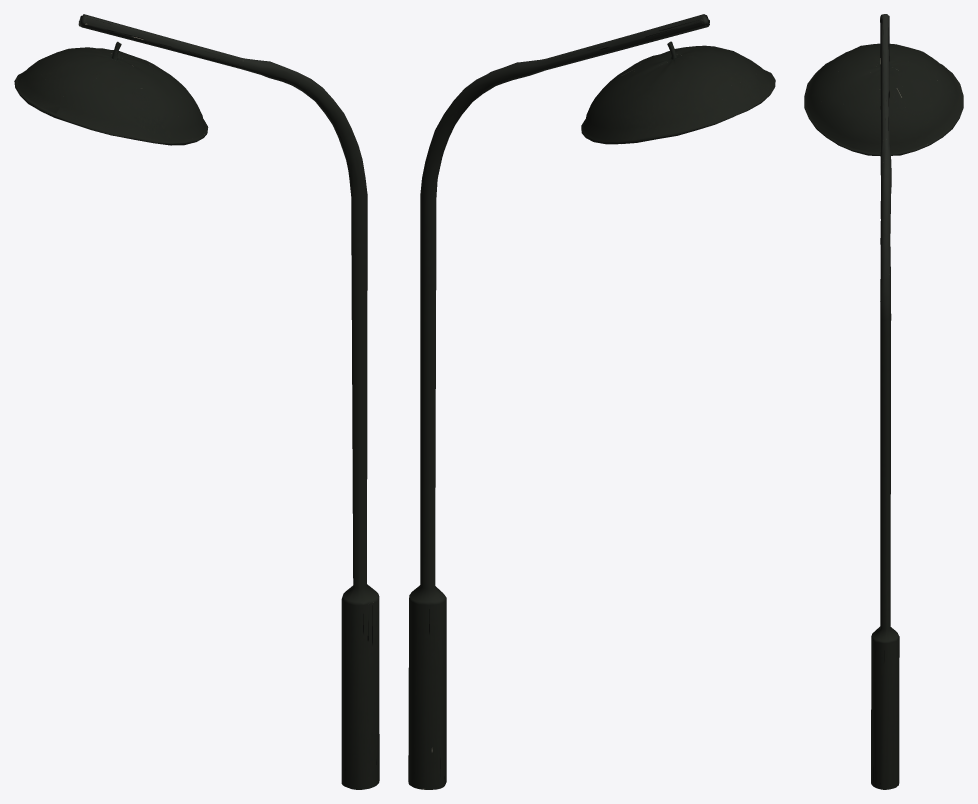
Rendered from street_lamp.glb.
3 views of the same model, side by side, from view 1: azimuth 30°, elevation 25°; view 2: azimuth 150°, elevation 25°; view 3: azimuth 270°, elevation 25° (orthographic). The views are drawn at different scales.
Visible parts, largest first — view 1: geometry_0; view 2: geometry_0; view 3: geometry_0.
Part boxes in pixels (box(x1,y1,x2,y2)): geometry_0: box(14, 14, 379, 789); geometry_0: box(408, 14, 775, 789); geometry_0: box(804, 14, 963, 789).
Size of the model in its own units: 0.4411 by 1 by 0.2182.
1 material, 1 textured.
